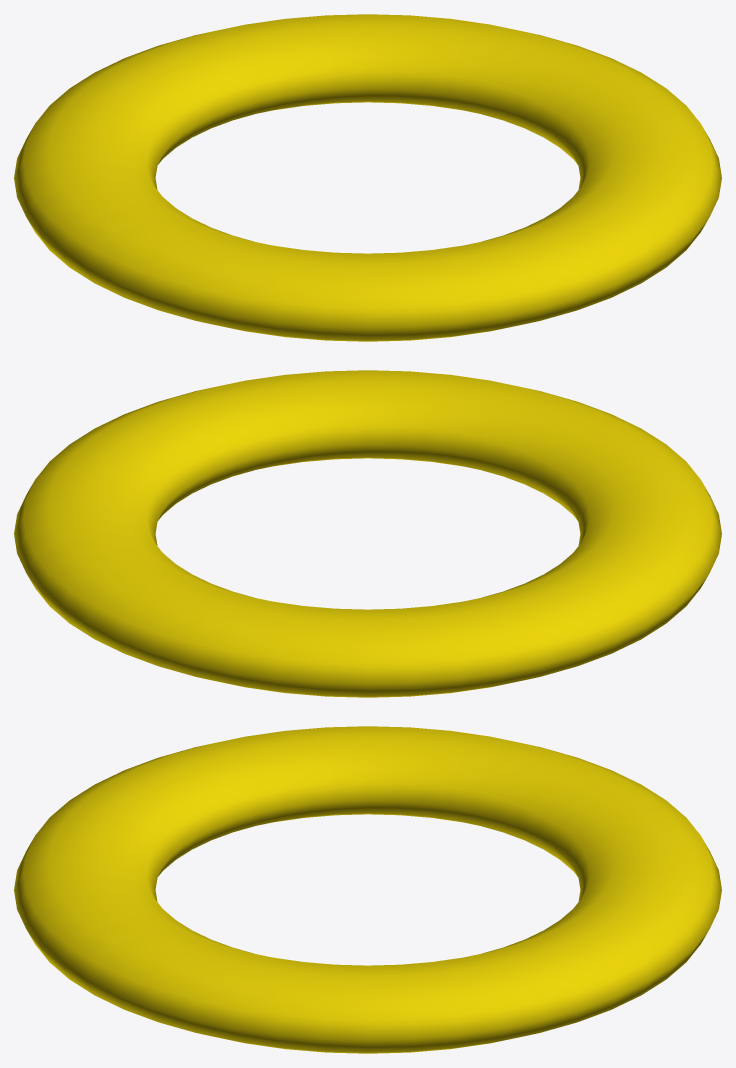
Rendered from Halo.glb.
3 renders of one model, top to bottom at view 1: azimuth 30°, elevation 25°; view 2: azimuth 150°, elevation 25°; view 3: azimuth 270°, elevation 25°, orthographic.
Parts seen in each view (by area): view 1: Halo; view 2: Halo; view 3: Halo.
Boxes of the visible parts, bbox=[...] form: Halo: bbox=[14, 14, 721, 341]; Halo: bbox=[14, 370, 721, 697]; Halo: bbox=[14, 726, 721, 1053].
Bounding box in the file's own units: 0.2768 × 0.029 × 0.2768.
